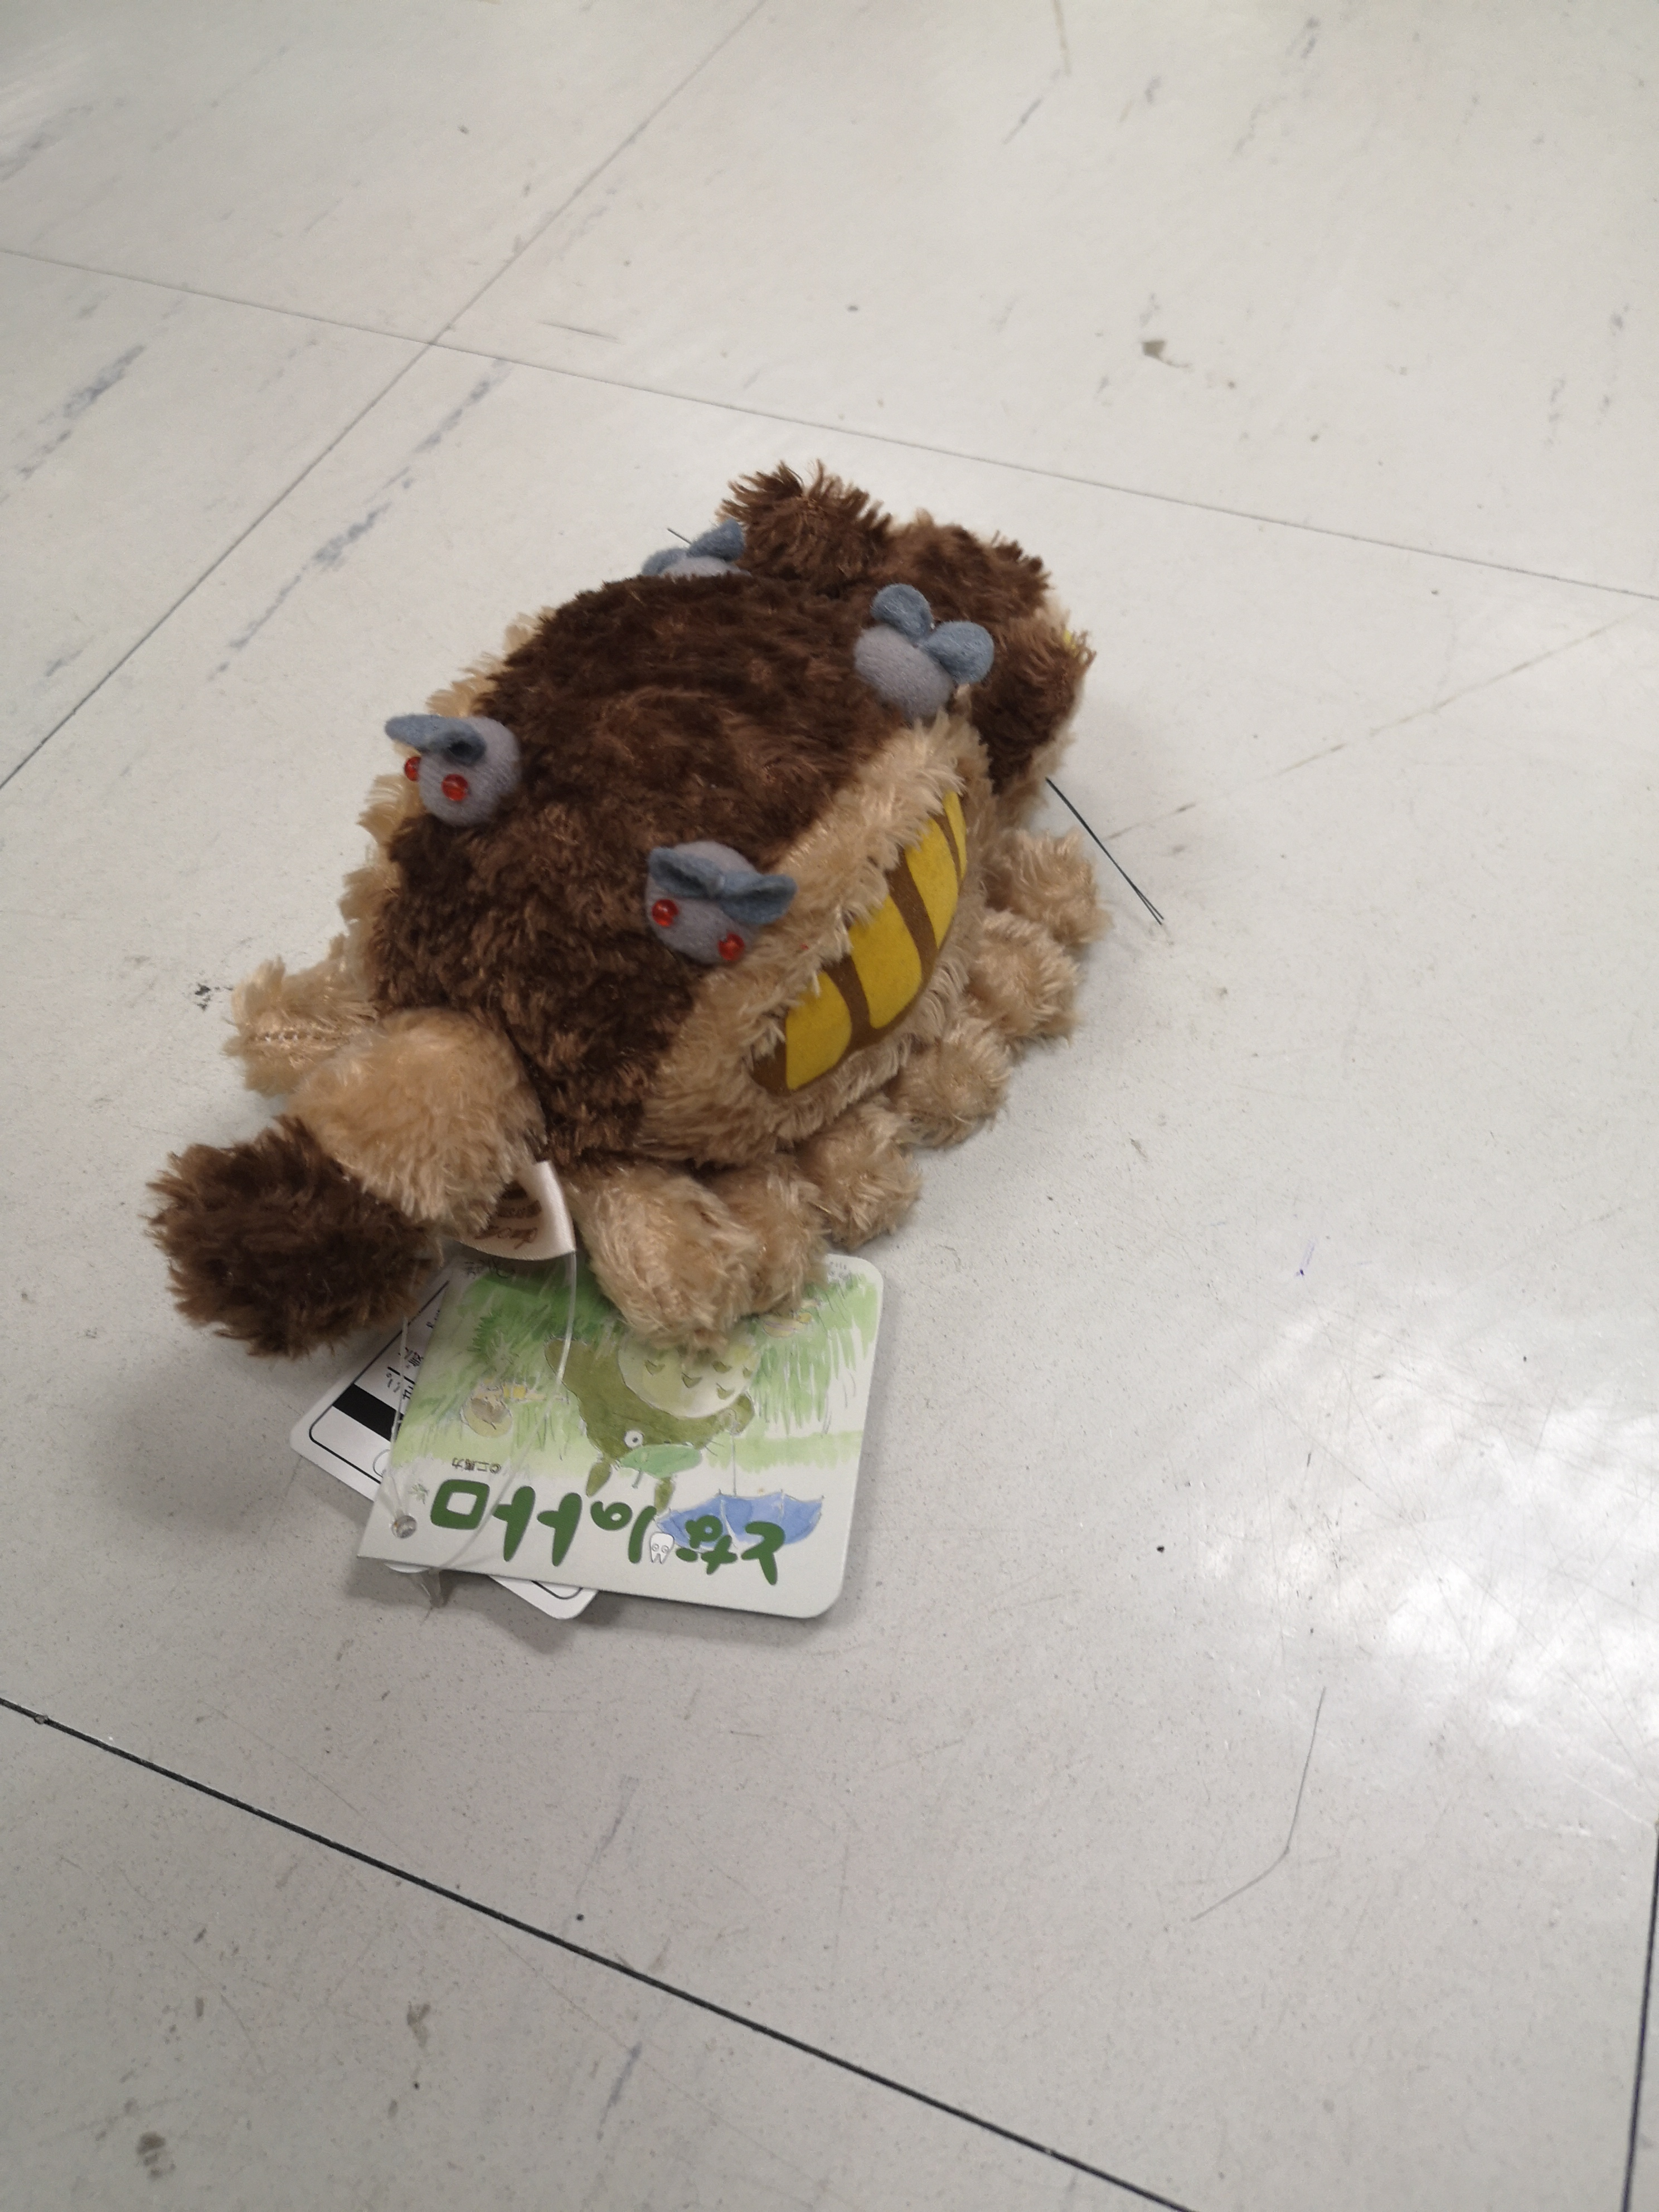nekobus: (141, 441, 1168, 1371)
